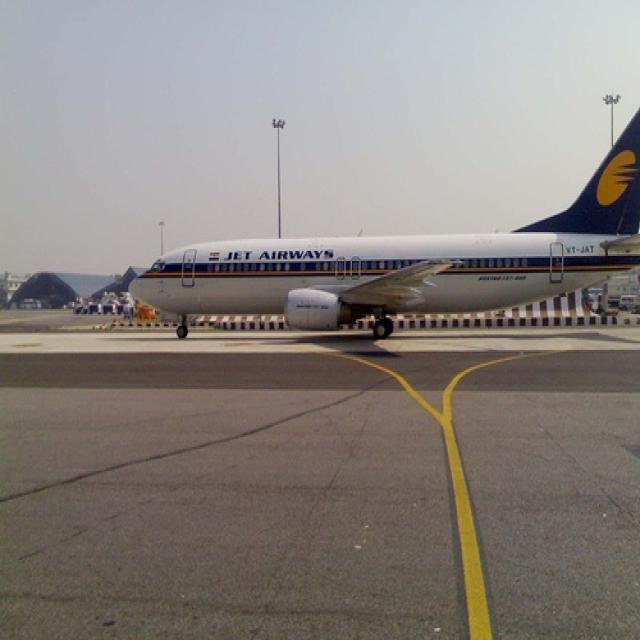aeroplane: (126, 106, 638, 340)
